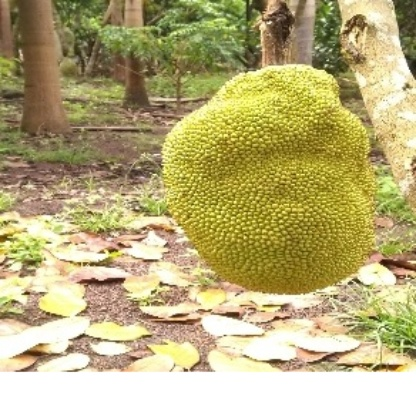mit: (154, 56, 393, 296)
